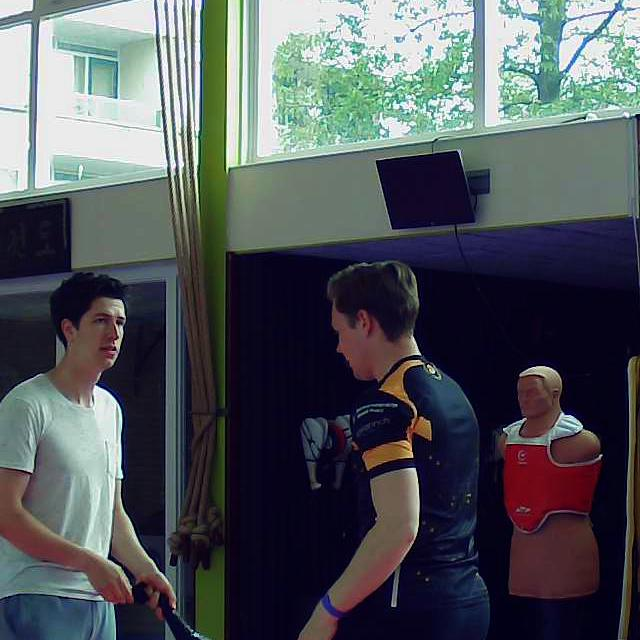paddle: (157, 588, 287, 640)
